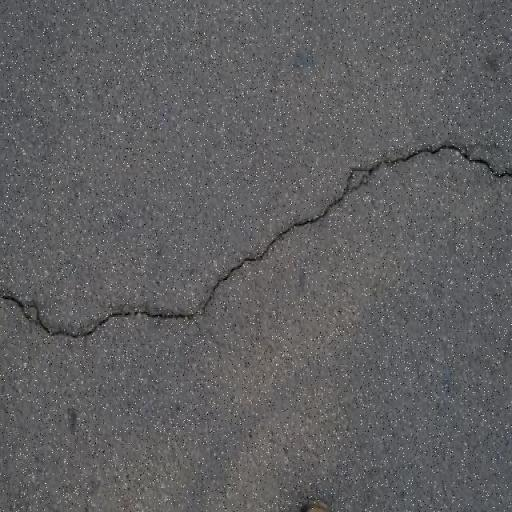severe crack: (0, 134, 512, 344)
